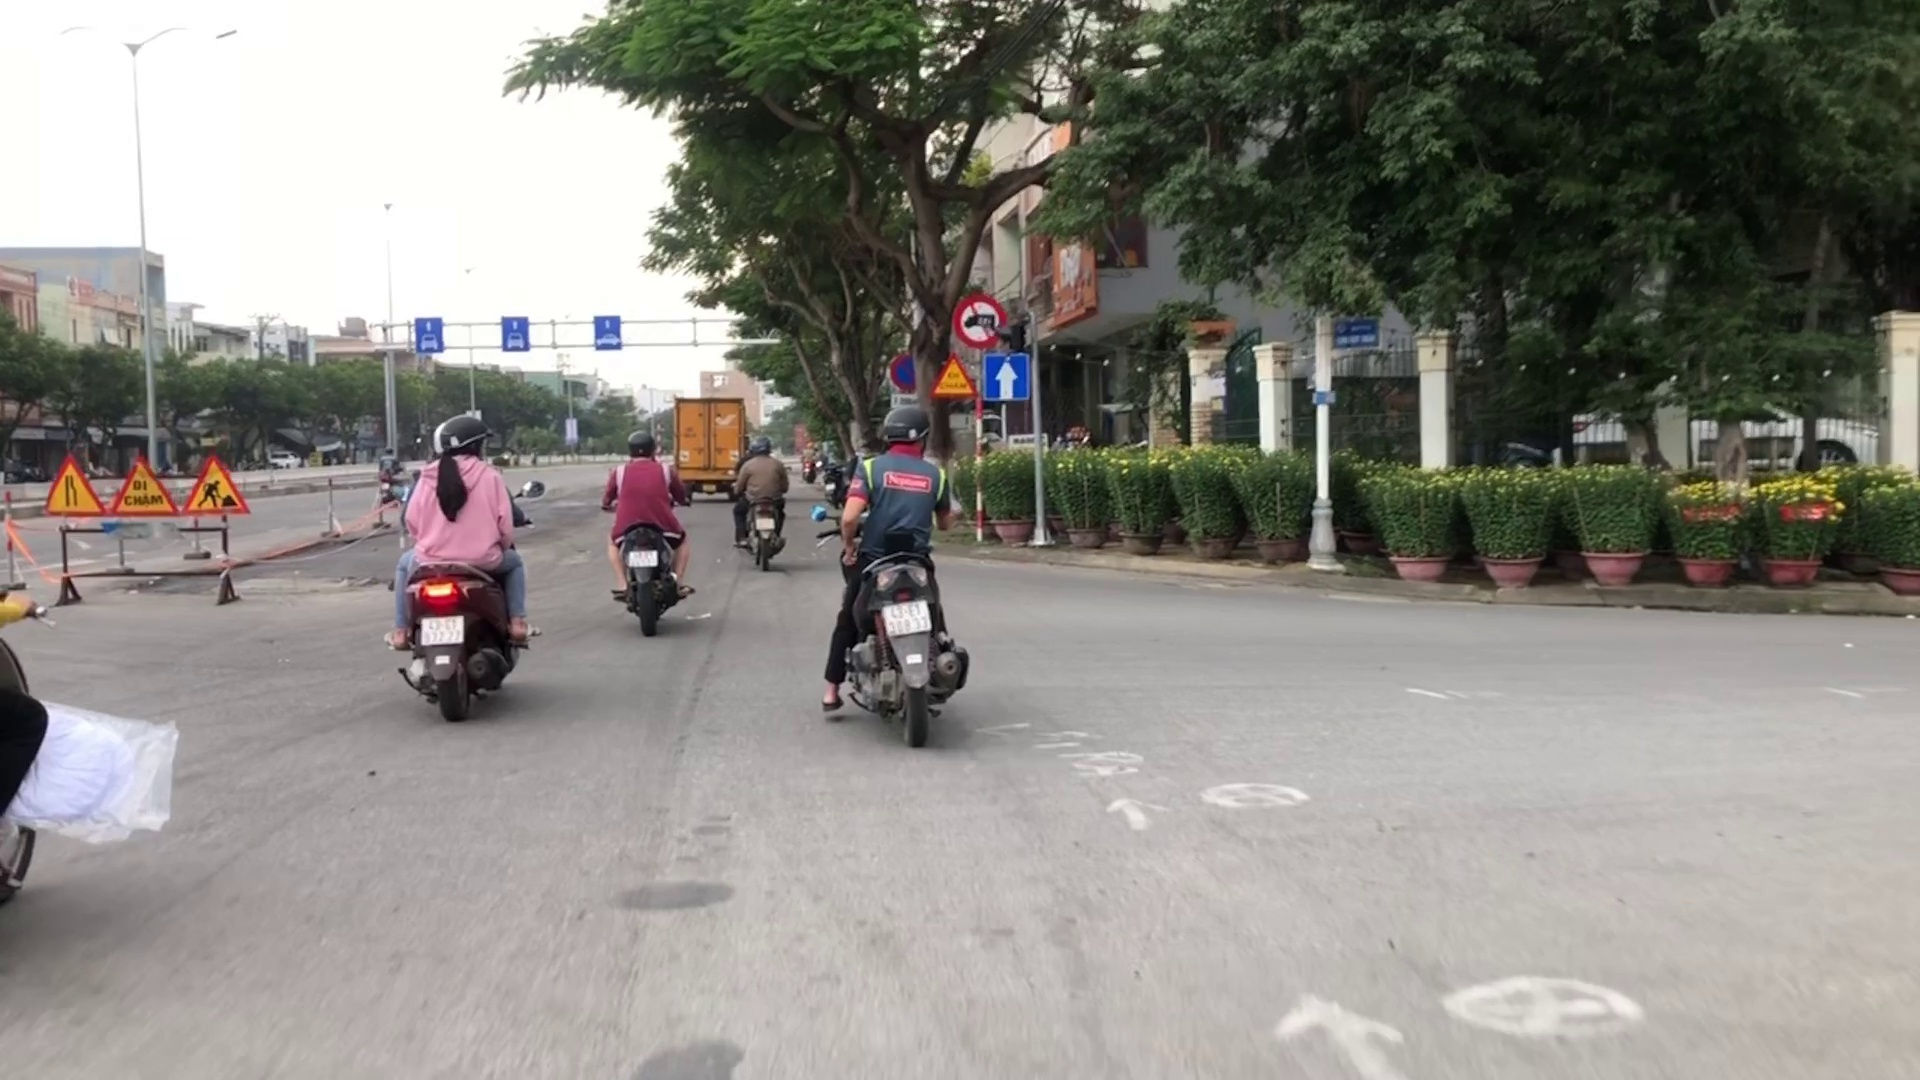Bien khac: (959, 298, 1010, 348), (981, 352, 1027, 401), (931, 356, 973, 401)
